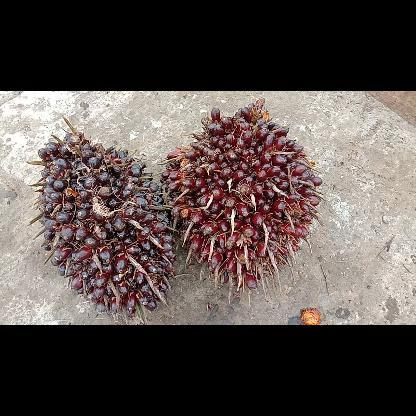Kurang masak: (35, 129, 174, 317)
TBS masak: (162, 95, 320, 292)
